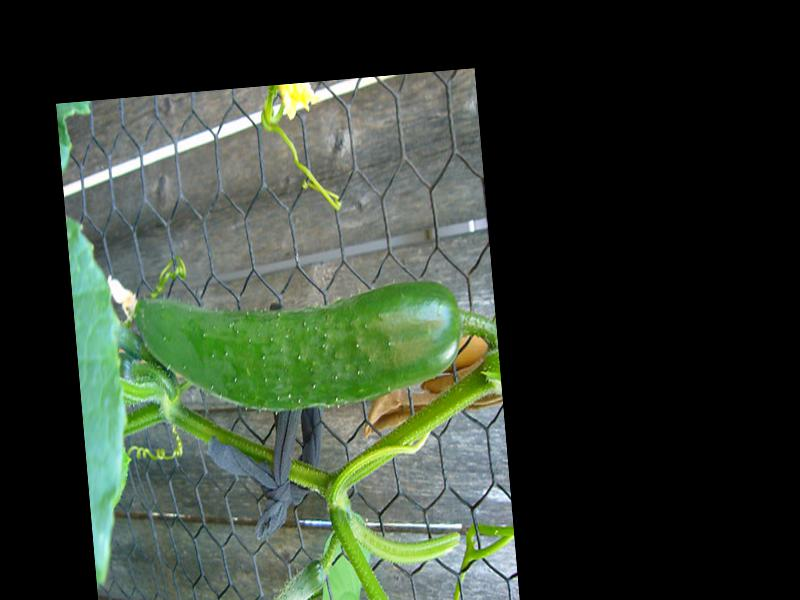Cucumber: (135, 270, 466, 424)
